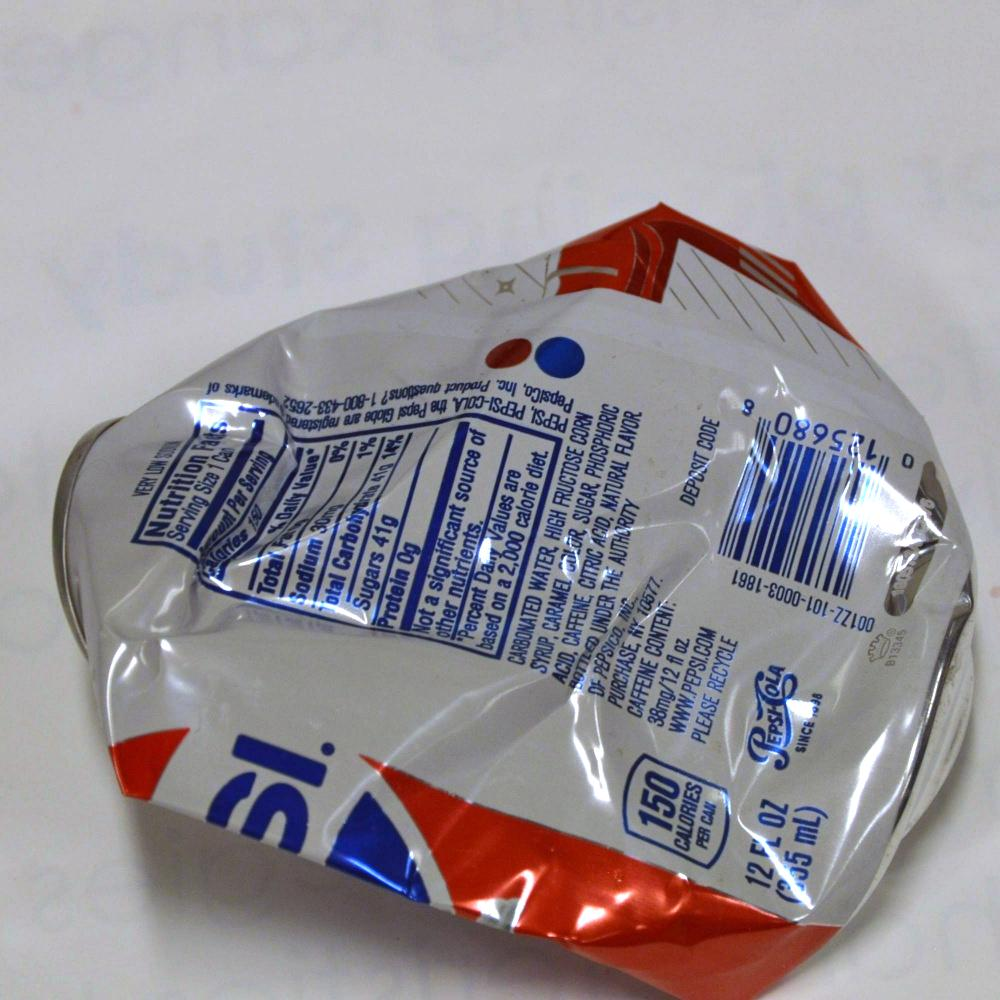Metal: (66, 178, 941, 990)
